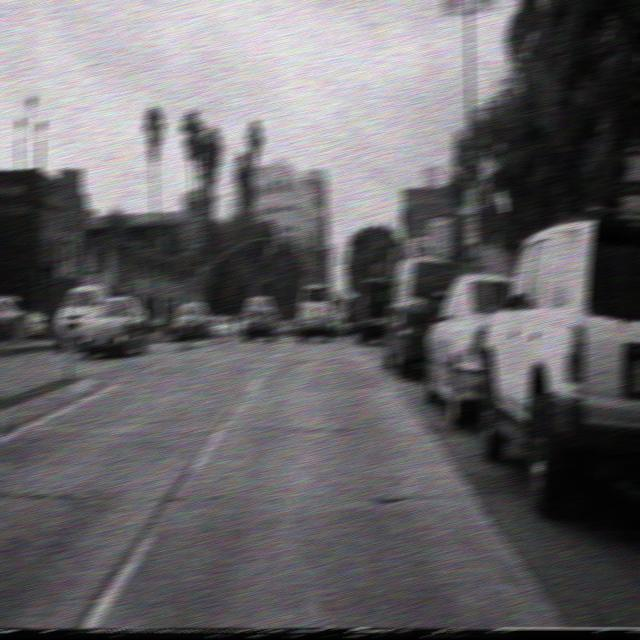speedLimit35: (459, 138, 482, 186), (185, 214, 203, 249)
